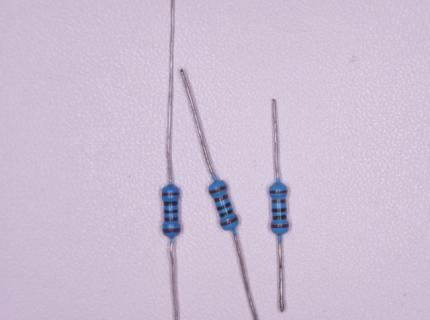Black band: (220, 208, 234, 218), (217, 202, 231, 211), (164, 201, 178, 206), (272, 215, 286, 220), (164, 210, 178, 214), (272, 208, 286, 212)
Brown band: (221, 216, 238, 226), (209, 185, 227, 194), (214, 194, 228, 203), (163, 228, 180, 233), (271, 224, 289, 228), (162, 192, 179, 196), (164, 217, 178, 221), (272, 199, 286, 203), (269, 190, 287, 193)
